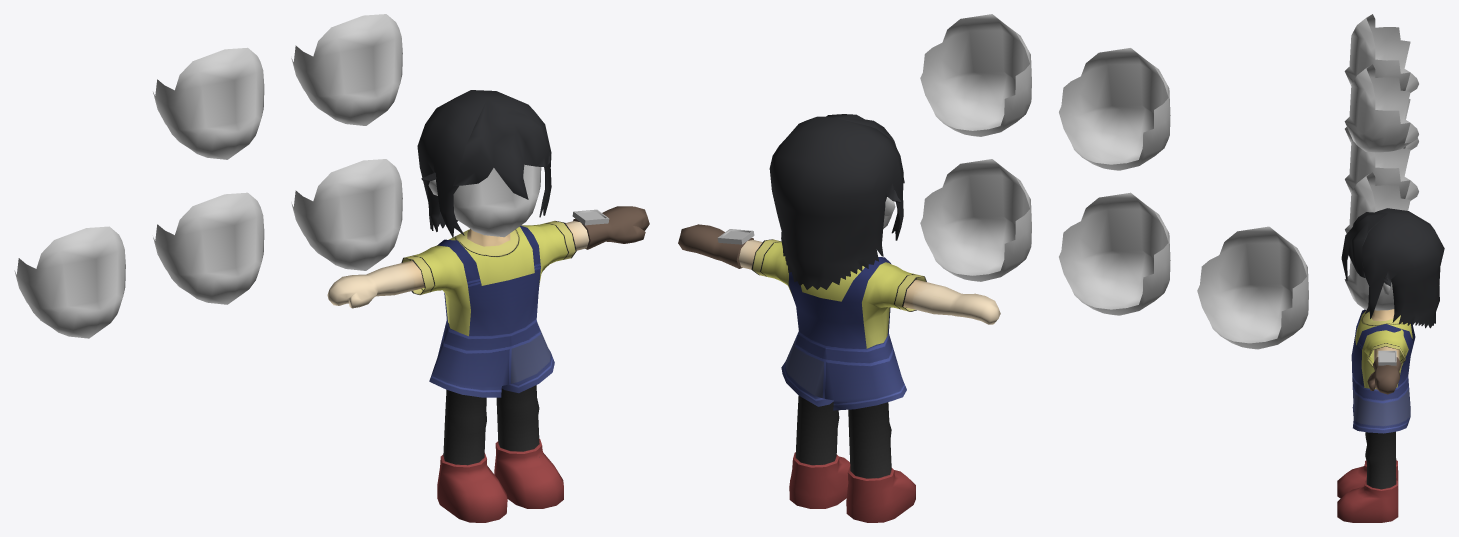
Rendered from PlayerFemale.fbx.
The picture shows the model from 3 angles, left to right: view 1: azimuth 30°, elevation 25°; view 2: azimuth 150°, elevation 25°; view 3: azimuth 270°, elevation 25°; orthographic projection. The views are drawn at different scales.
Visible parts, largest first — view 1: body.008, clothes.007, face1, face3, face6, face5, face2, clothes.006, hair03.003, hair01.004, face, hand (+1 smaller); view 2: hair03.003, body.008, clothes.007, face5, face3, face1, face2, face6, clothes.006, hand, shoutao; view 3: hair03.003, body.008, face6, clothes.007, face5, face2, clothes.006, face1, hair01.004, face, shoutao, glove_access.004 (+2 smaller).
Part boxes in pixels (box(x1,y1,x2,y2)): body.008: box(437, 229, 563, 522); clothes.007: box(429, 226, 554, 397); face1: box(291, 159, 402, 270); face3: box(14, 226, 125, 338); face6: box(291, 14, 402, 125); face5: box(153, 47, 264, 159); face2: box(153, 192, 264, 304); clothes.006: box(401, 221, 576, 336); hair03.003: box(417, 90, 551, 237); hair01.004: box(453, 99, 550, 199); face: box(453, 164, 541, 237); hand: box(327, 221, 588, 308); hair03.003: box(769, 116, 903, 289); body.008: box(789, 396, 915, 522); clothes.007: box(781, 257, 906, 410); face5: box(1059, 48, 1170, 170); face3: box(1197, 226, 1308, 349); face1: box(920, 159, 1031, 281); face2: box(1059, 192, 1170, 315); face6: box(920, 14, 1031, 136); clothes.006: box(751, 239, 926, 348); hand: box(738, 240, 1000, 324); shoutao: box(678, 224, 753, 268); hair03.003: box(1362, 208, 1444, 328); body.008: box(1337, 309, 1398, 522); face6: box(1344, 64, 1418, 152); clothes.007: box(1351, 309, 1415, 433); face5: box(1344, 14, 1418, 92); face2: box(1345, 141, 1418, 200); clothes.006: box(1355, 310, 1412, 389); face1: box(1345, 172, 1410, 233); hair01.004: box(1341, 212, 1387, 280); face: box(1344, 259, 1394, 310); shoutao: box(1367, 357, 1401, 394); glove_access.004: box(1378, 350, 1396, 365).
Bounding box in the file's own units: 405 × 322 × 81.25.
